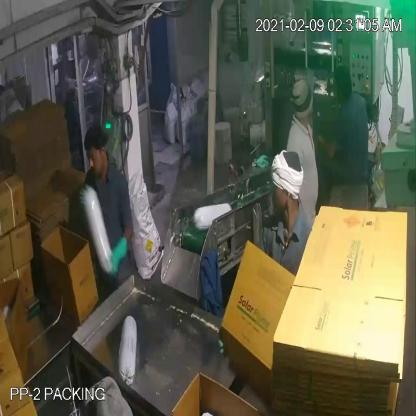glove: (97, 225, 133, 287)
